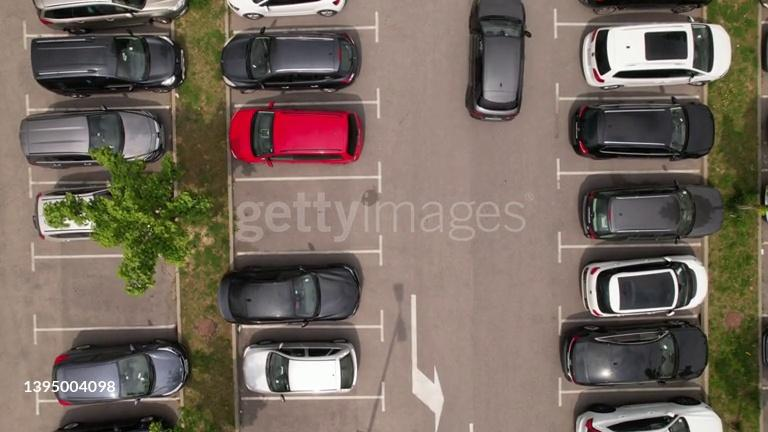car: (582, 19, 730, 88), (30, 33, 184, 96), (50, 340, 189, 405), (562, 323, 707, 385), (20, 107, 169, 167), (221, 29, 359, 92), (217, 263, 361, 323), (571, 100, 716, 159), (231, 101, 364, 165), (580, 181, 721, 240), (580, 254, 710, 316), (466, 1, 526, 119), (242, 339, 359, 394), (575, 396, 724, 430), (34, 0, 188, 31), (33, 185, 115, 238), (225, 0, 344, 20), (50, 414, 170, 432), (578, 0, 713, 15)
